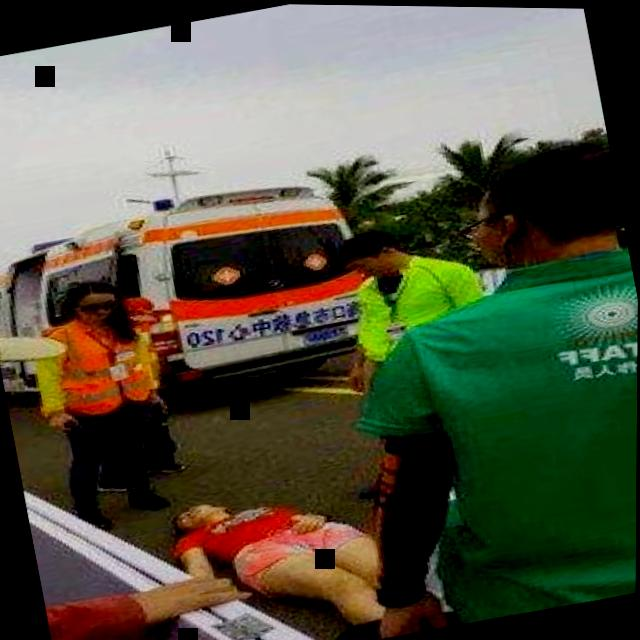Fall-Detected: (159, 447, 426, 640)
